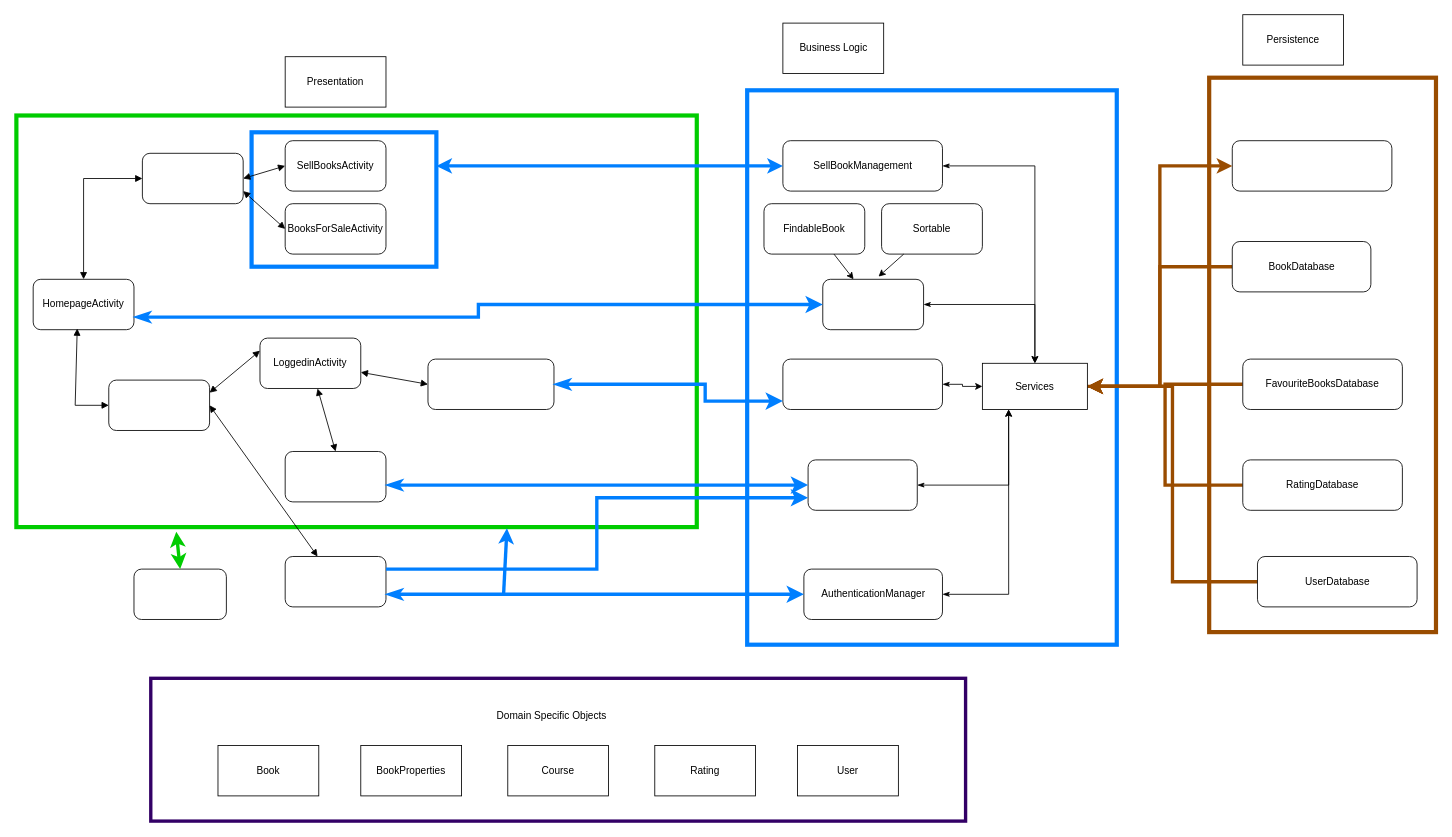
This 1452x837 diagram has some shape labels left out. The centre of each missing label's shape, as x and y in pixels:
AccountActivity: the point at 335,581
AccountManagement: the point at 862,484
BookManagement: the point at 873,304
ChangAccount: the point at 335,476
FavouriteBookManagement: the point at 862,384
FavouriteBooksActivity: the point at 490,384
FooterUtility: the point at 179,594
LibraryActivity: the point at 192,178
LoginActivity: the point at 159,404
SellBooksDatabase: the point at 1311,165
